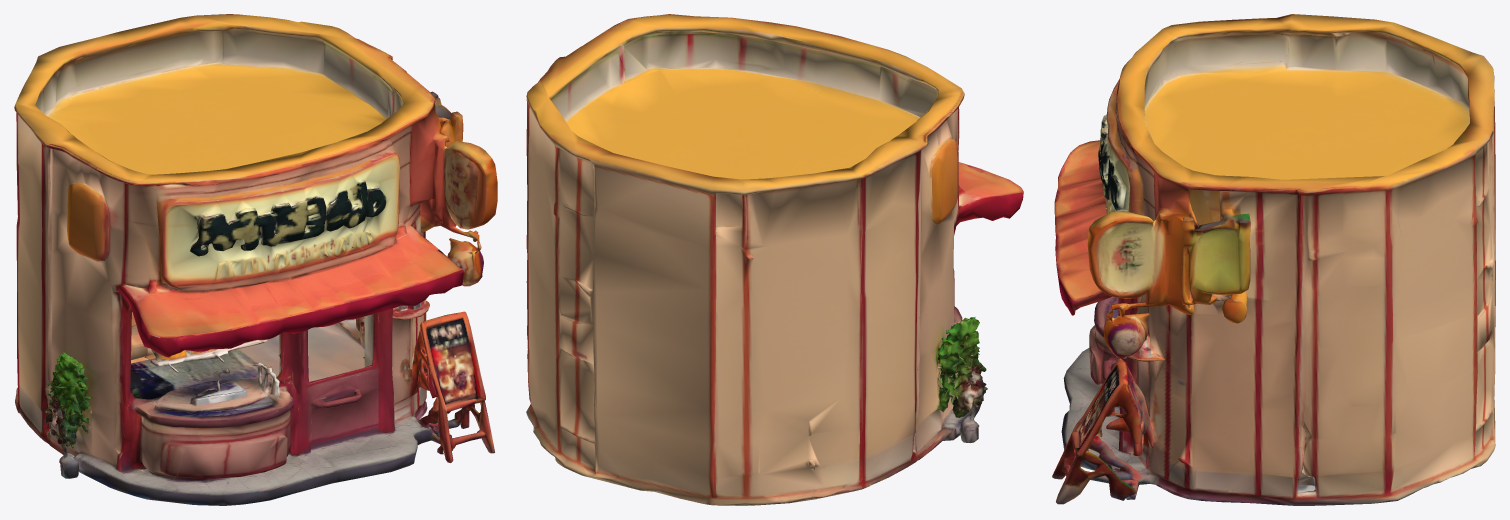
The model's file is ximen_bubbletea_shop_01.glb.
The picture shows the model from 3 angles, left to right: view 1: azimuth 30°, elevation 25°; view 2: azimuth 150°, elevation 25°; view 3: azimuth 270°, elevation 25°; orthographic projection. The views are drawn at different scales.
Size of the model in its own units: 2 by 1.52 by 1.9.
1 material, 1 textured.
